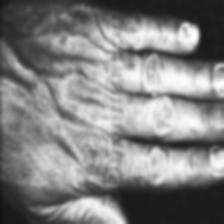Toxin: (30, 146, 100, 206), (9, 1, 91, 39), (180, 18, 203, 46), (212, 143, 224, 171), (216, 80, 224, 90)
